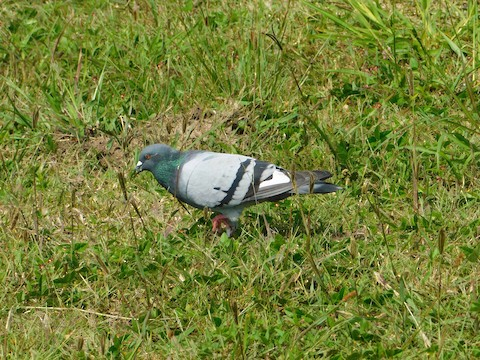pigeon: (127, 138, 343, 238)
